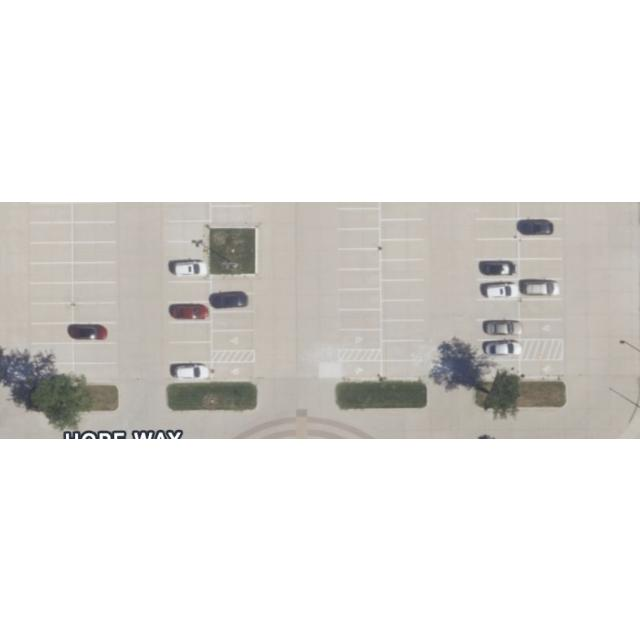Empty: (72, 240, 116, 262), (212, 205, 256, 227), (30, 202, 73, 222), (31, 282, 74, 302), (30, 221, 72, 241), (73, 221, 115, 241), (31, 242, 73, 262), (31, 262, 73, 282), (74, 262, 116, 282), (73, 281, 115, 301), (74, 343, 116, 363), (32, 364, 74, 384), (74, 362, 116, 382), (170, 322, 212, 342), (338, 228, 380, 248), (338, 248, 380, 268), (339, 268, 381, 288), (339, 289, 381, 309), (74, 202, 114, 222), (74, 302, 114, 322), (171, 281, 211, 301), (338, 208, 378, 228), (31, 323, 73, 342), (31, 343, 73, 362), (212, 312, 254, 331), (211, 274, 255, 292), (170, 220, 208, 240), (170, 240, 208, 260), (171, 342, 211, 361), (31, 304, 73, 322)
